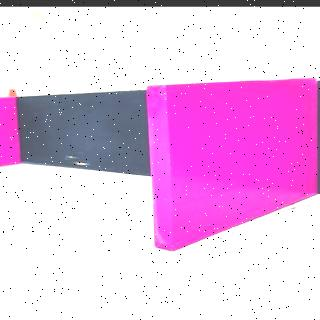xparking: (154, 88, 317, 218), (0, 96, 17, 162)
